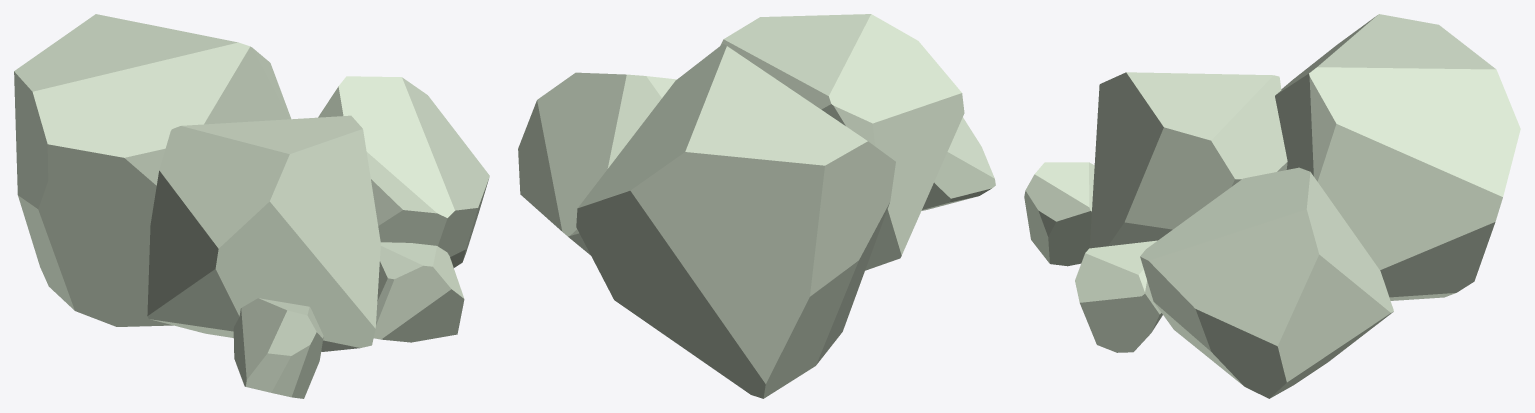
Rendered from CaveRocks .fbx.
3 renders of one model, left to right at view 1: azimuth 30°, elevation 25°; view 2: azimuth 150°, elevation 25°; view 3: azimuth 270°, elevation 25°, orthographic. The views are drawn at different scales.
Parts seen in each view (by area): view 1: Cube.008; view 2: Cube.008; view 3: Cube.008.
Part boxes in pixels (box(x1,y1,x2,y2)): Cube.008: box(14, 14, 489, 398); Cube.008: box(518, 14, 995, 398); Cube.008: box(1024, 14, 1520, 398).
Bounding box in the file's own units: 240 × 152 × 258.
